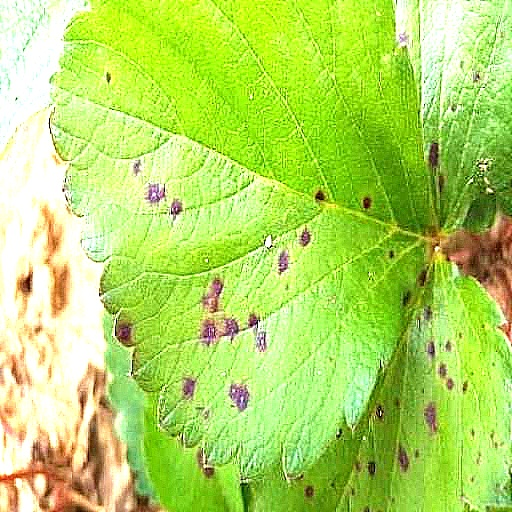Leaf Spot: (72, 0, 466, 484), (0, 243, 267, 511), (265, 393, 371, 511)
